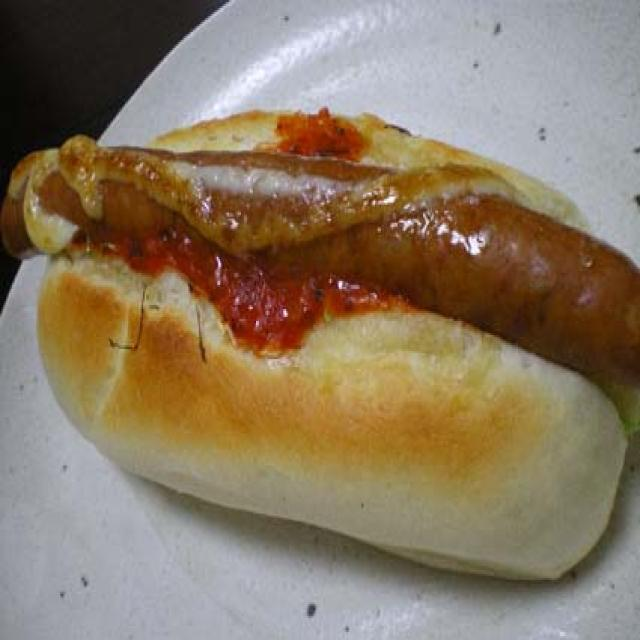Hot Dog: (0, 84, 628, 586)
